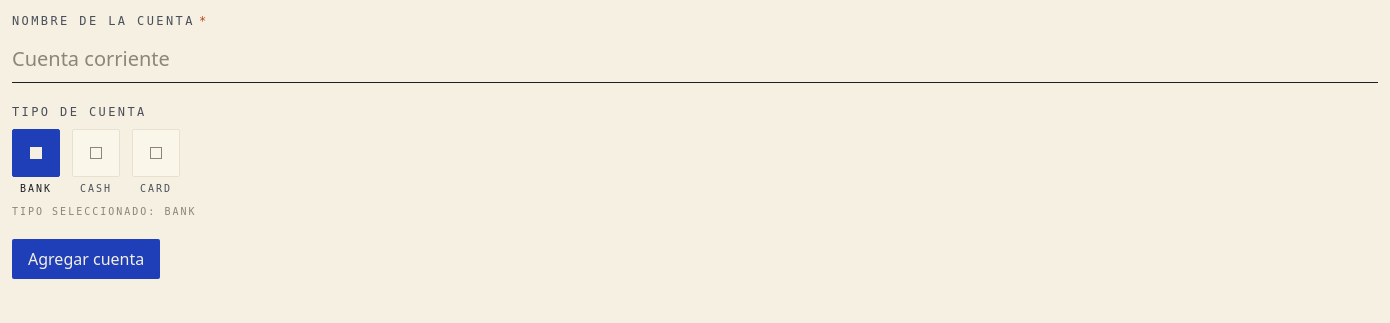
Scenario: AccountForm › surfaces backend errors verbatim on mutation failure
In the field labelled "Nombre de la cuenta*": (695,60) left=12, top=36, right=1378, bottom=83, type "Checking"
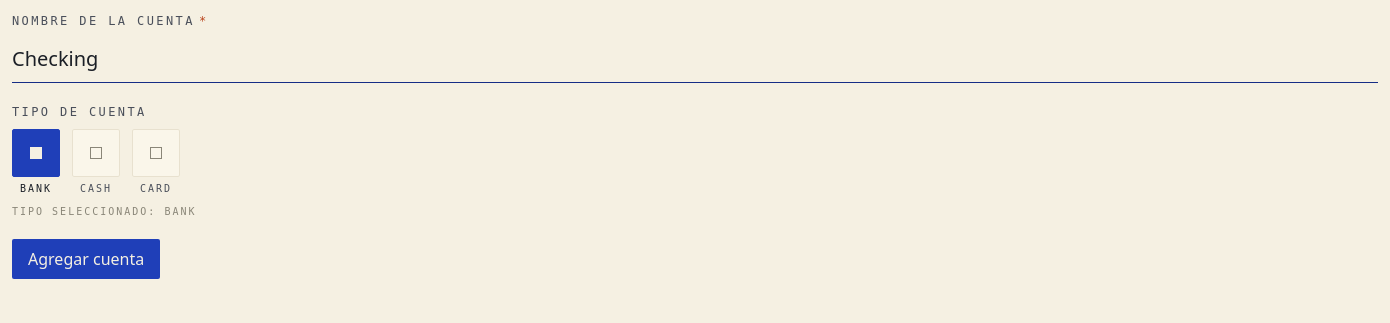
Click the button "Agregar cuenta": (86,259) left=12, top=239, right=160, bottom=279
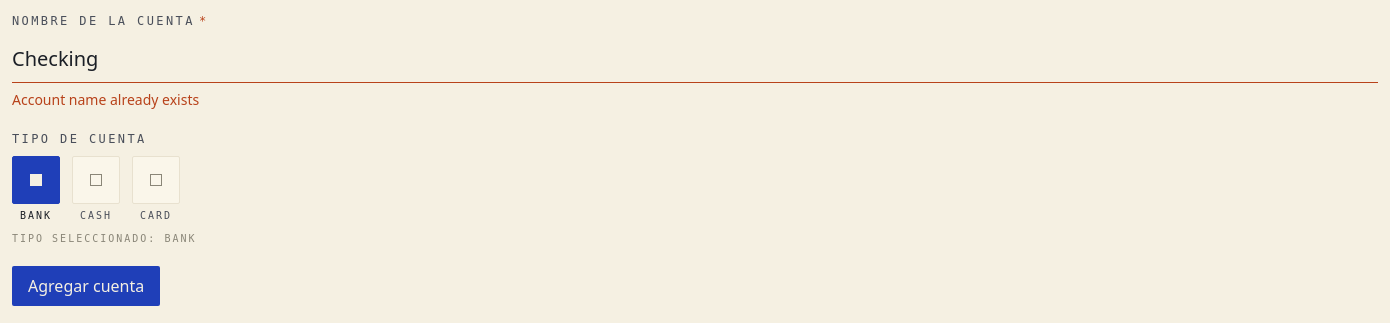
Check: the text "Account name already exists" is shown, box left=12, top=90, right=199, bottom=109
